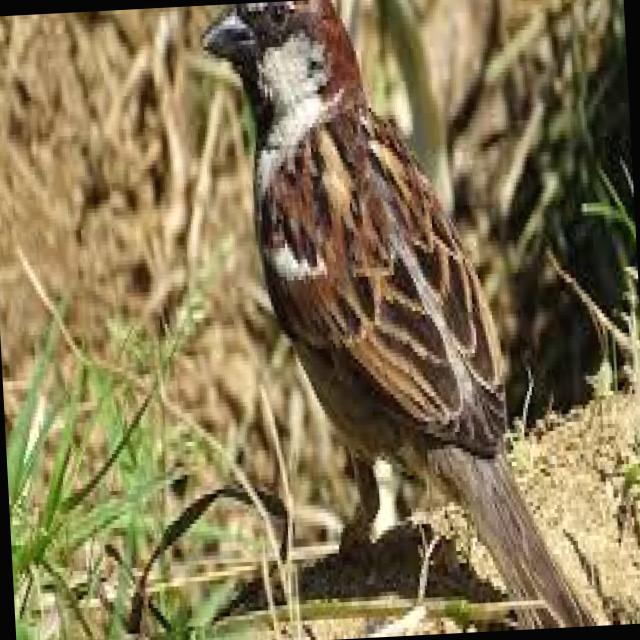bird: (201, 0, 609, 640)
